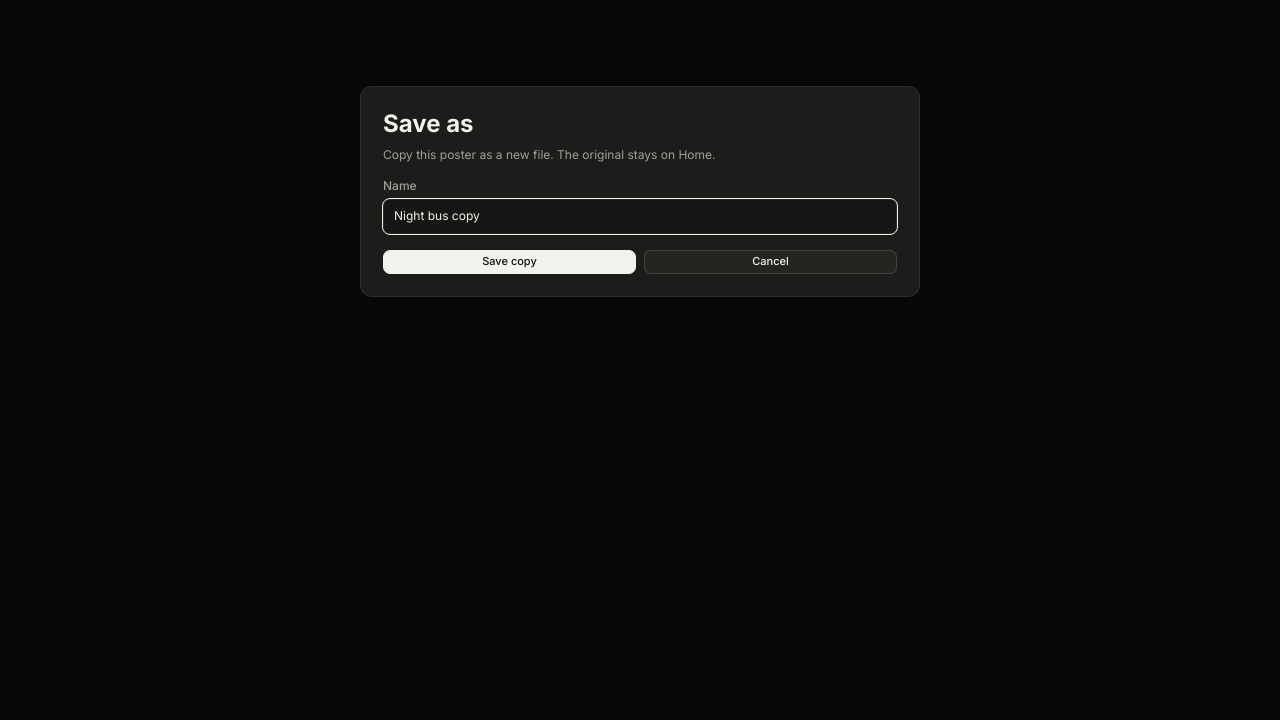
Test case: SaveAsDialog › blocks a colliding name without a confirm overwrite
Later steps or results of the test are not shown.
Replace the text in the field named "Save as name" with "Night bus" at (640, 216), box x1=383 y1=199 x2=897 y2=234
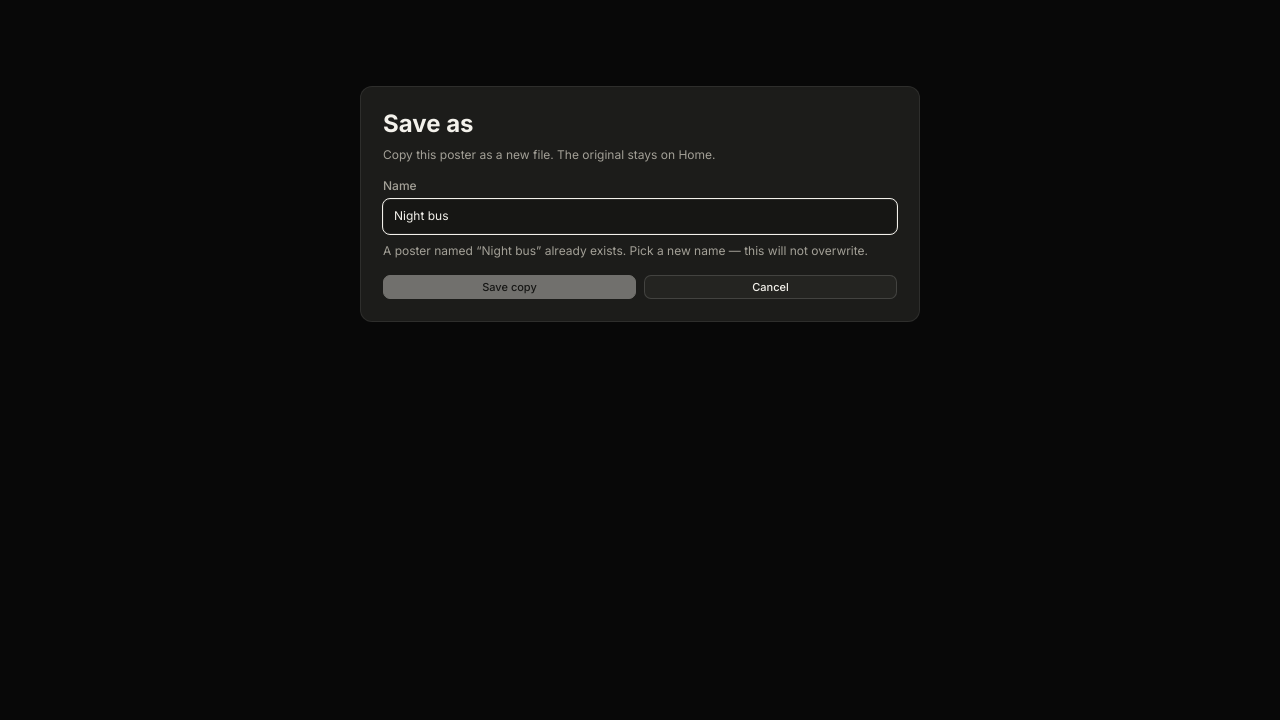
Expected: the button "Save copy" is disabled, x1=383 y1=275 x2=636 y2=299
Expected: the message shows "already exists", x1=383 y1=243 x2=868 y2=258
